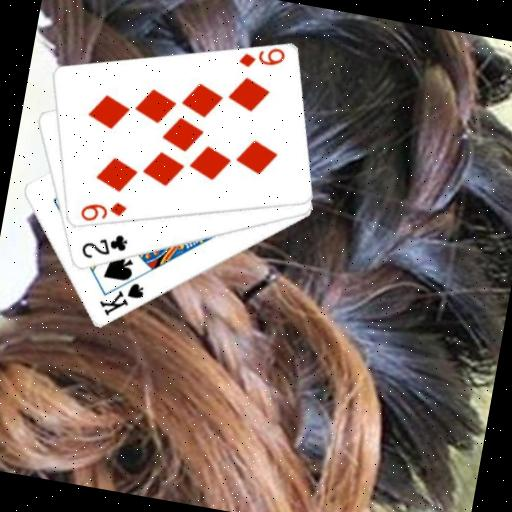2C: (76, 225, 130, 267)
9D: (76, 192, 129, 229), (234, 40, 287, 76)
KS: (93, 274, 147, 324)
